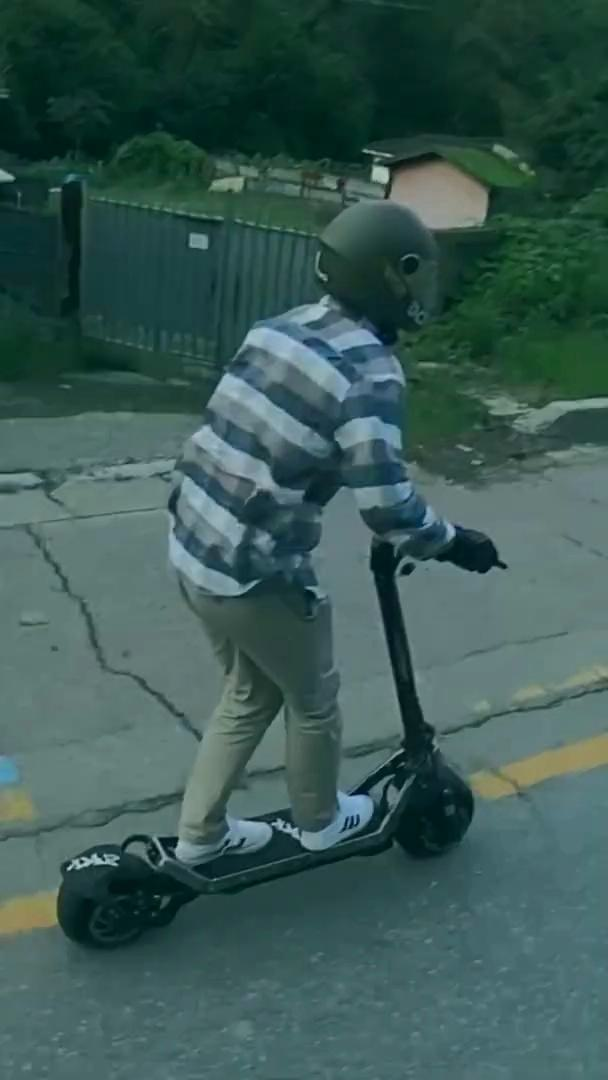helmet: (51, 197, 509, 950)
